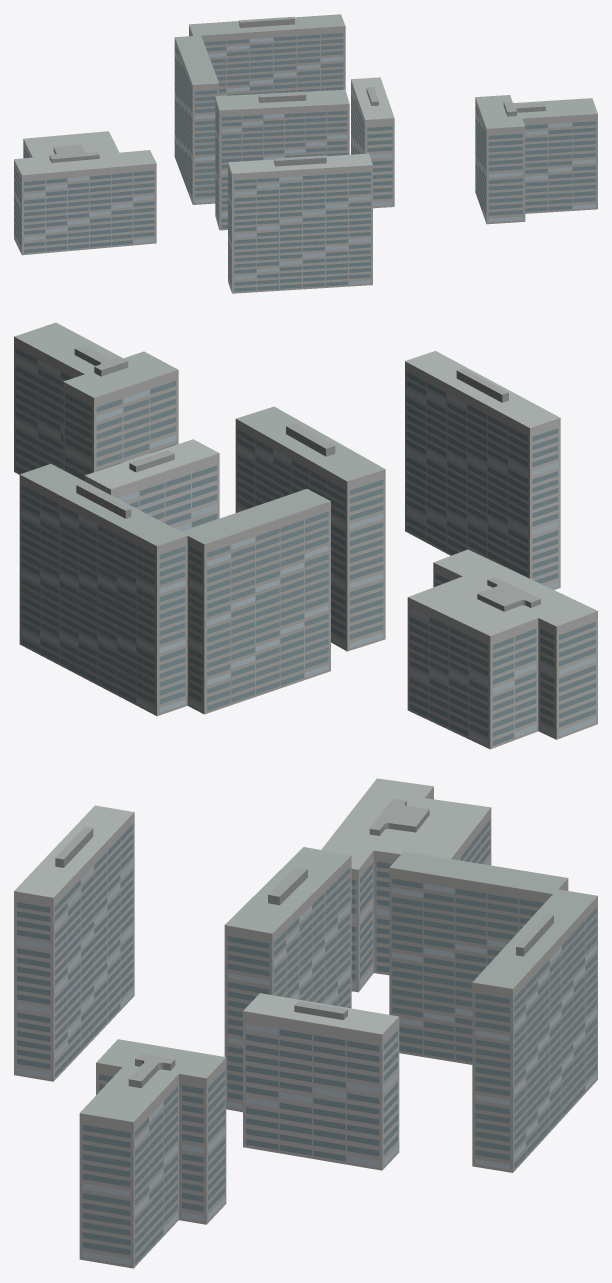
Rendered from apt-a13402305.glb.
The picture shows the model from 3 angles, top to bottom: view 1: azimuth 30°, elevation 25°; view 2: azimuth 150°, elevation 25°; view 3: azimuth 270°, elevation 25°; orthographic projection. The views are drawn at different scales.
Visible parts, largest first — view 1: apt-a13402305; view 2: apt-a13402305; view 3: apt-a13402305.
Part boxes in pixels (x1,y1,x2,y2): apt-a13402305: (14,14,597,293); apt-a13402305: (14,322,597,749); apt-a13402305: (14,778,597,1268).
Size of the model in its own units: 221 by 54 by 148.
